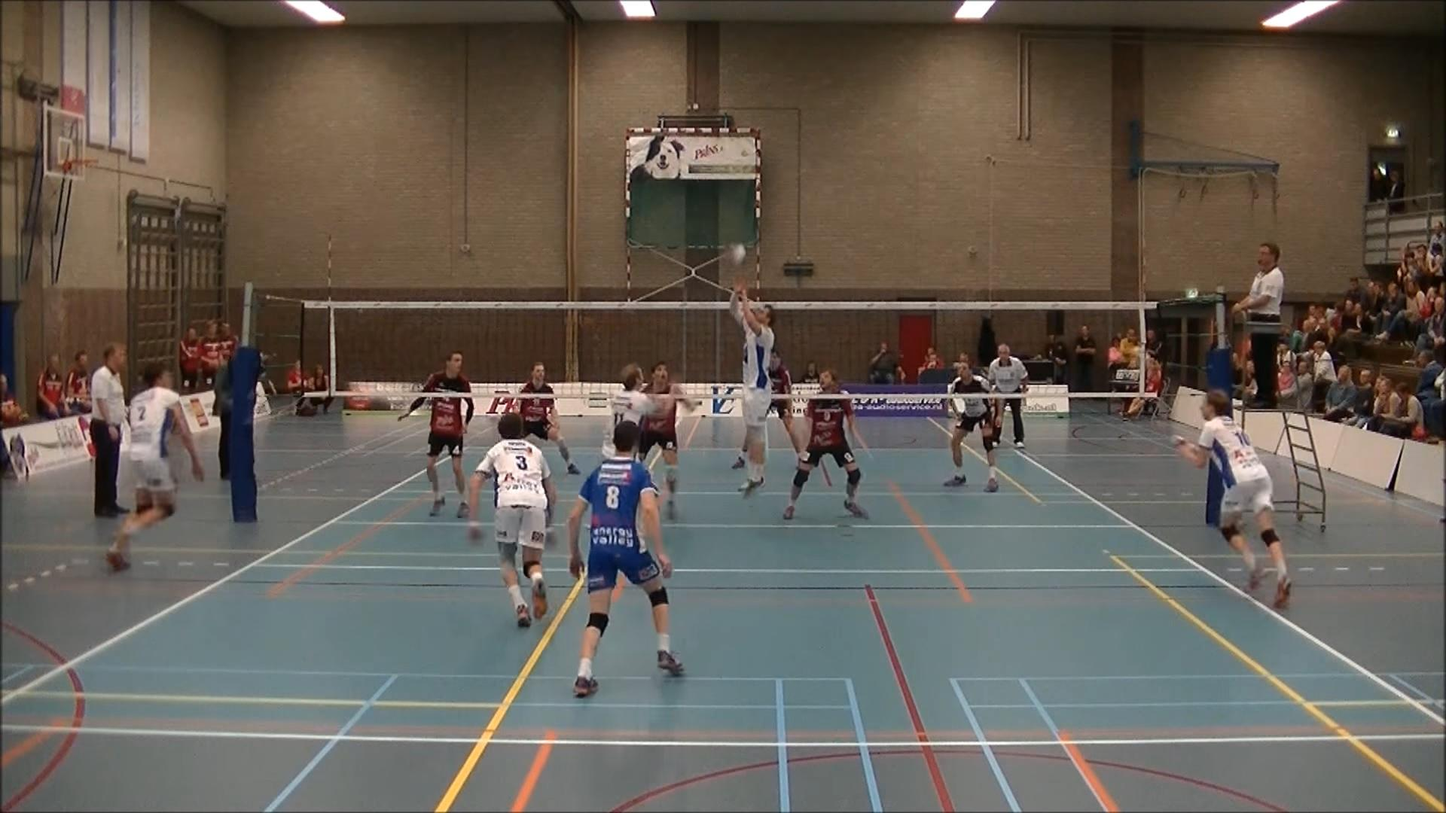alzata: (727, 288, 776, 500)
